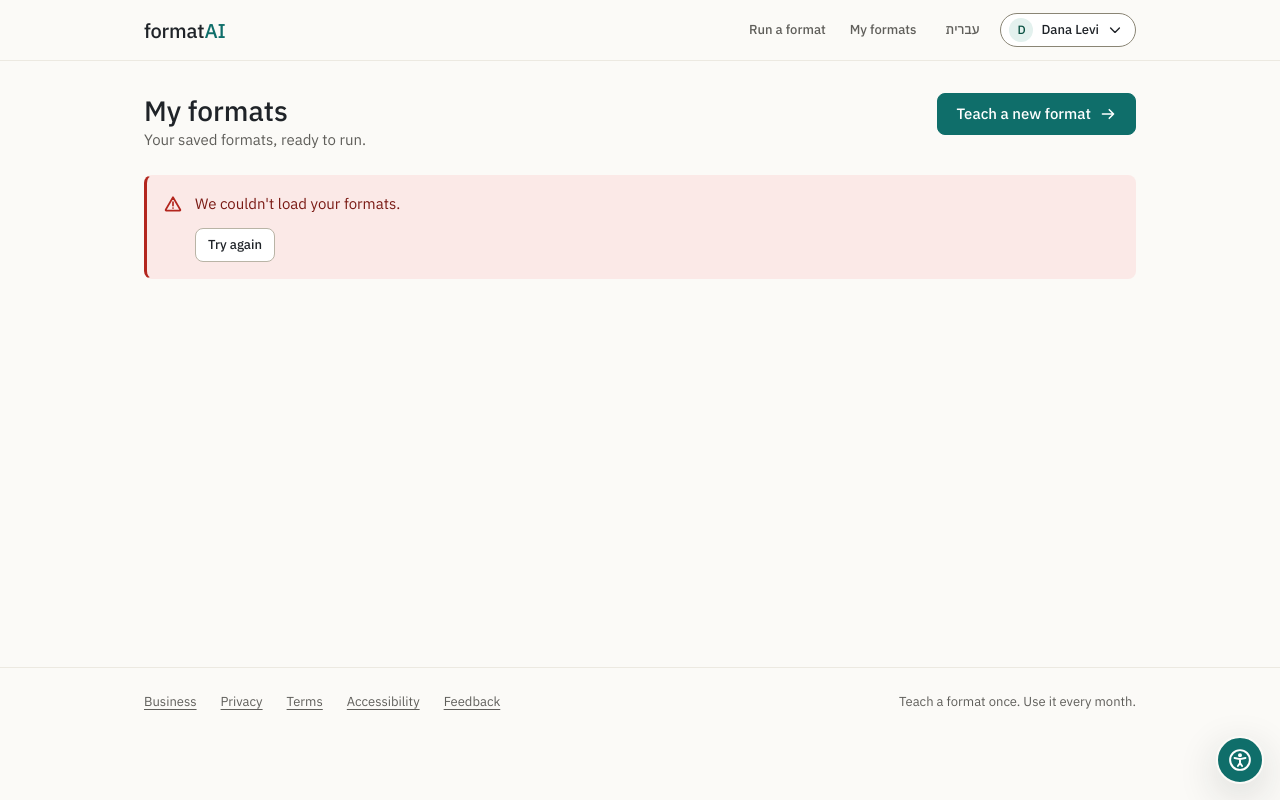
it: My formats › a list that cannot be loaded says so and can be tried again
Expected: the text "We couldn't load your formats." is shown, [195,192,400,216]
Click the button "Try again". click: x=235, y=244
box: [195,228,275,262]
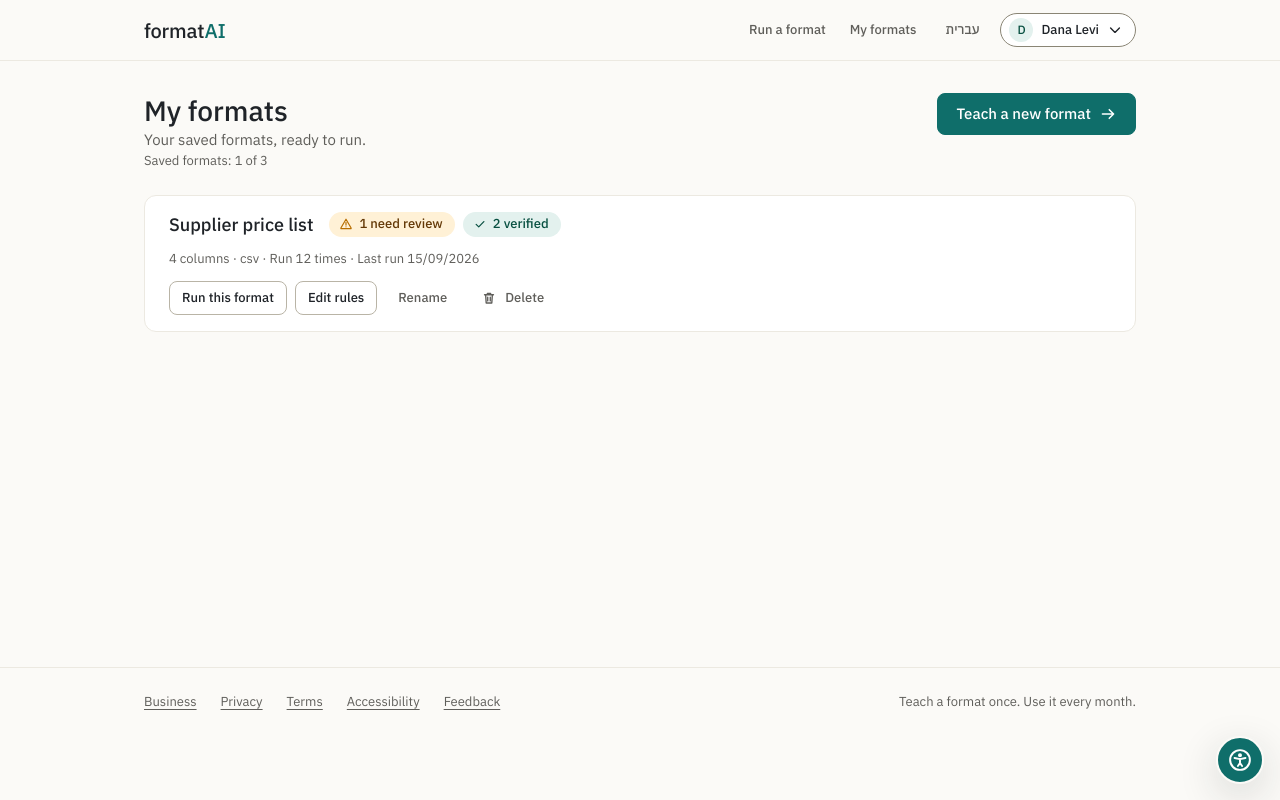
Now the list with test id "format-list" is shown, box [144,195,1136,332]
